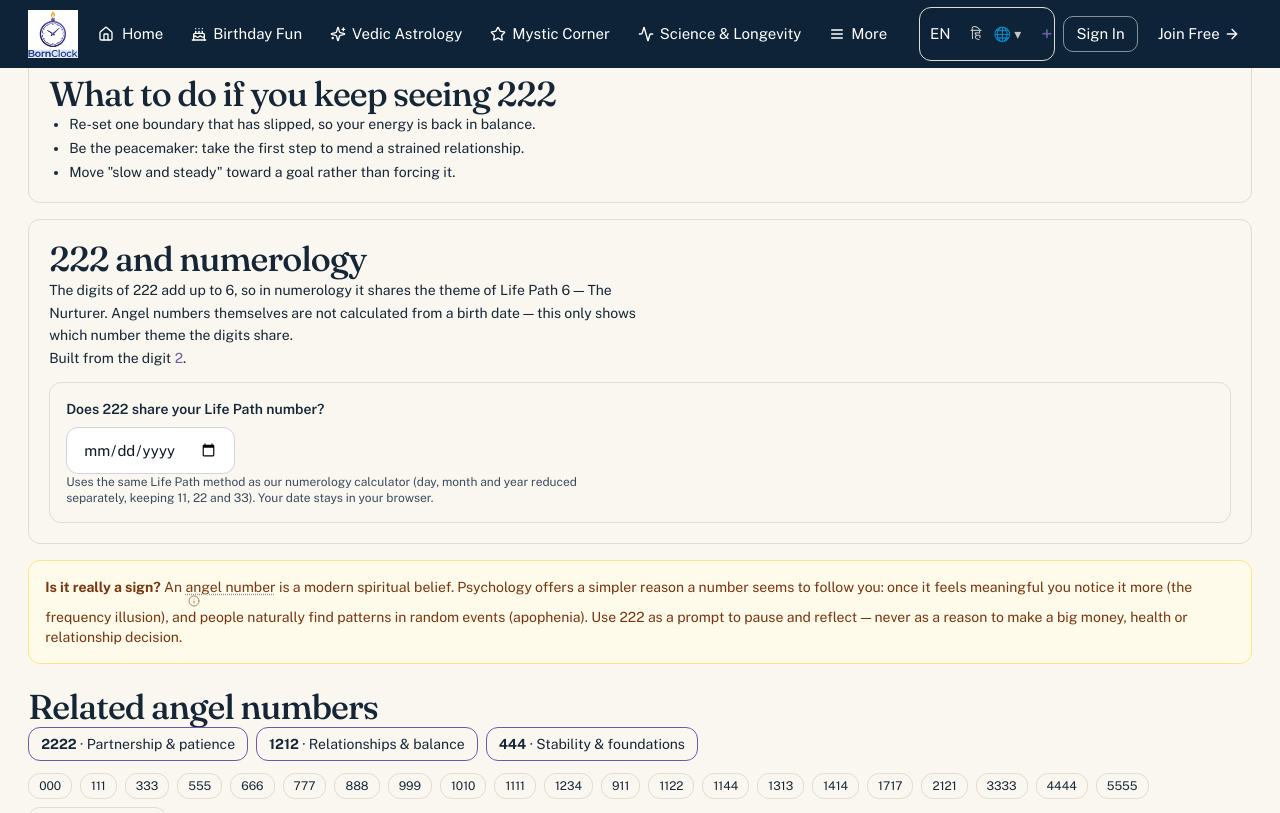
Test: angel number pages › Life Path checker uses the shared method (15 Aug 1990 → 6, matches 222)
The image size is (1280, 813).
(page scrolled)
Type "1990-08-15" into the date field with id "angel-dob" at (151,451), box x1=66 y1=427 x2=235 y2=474
(page scrolled)
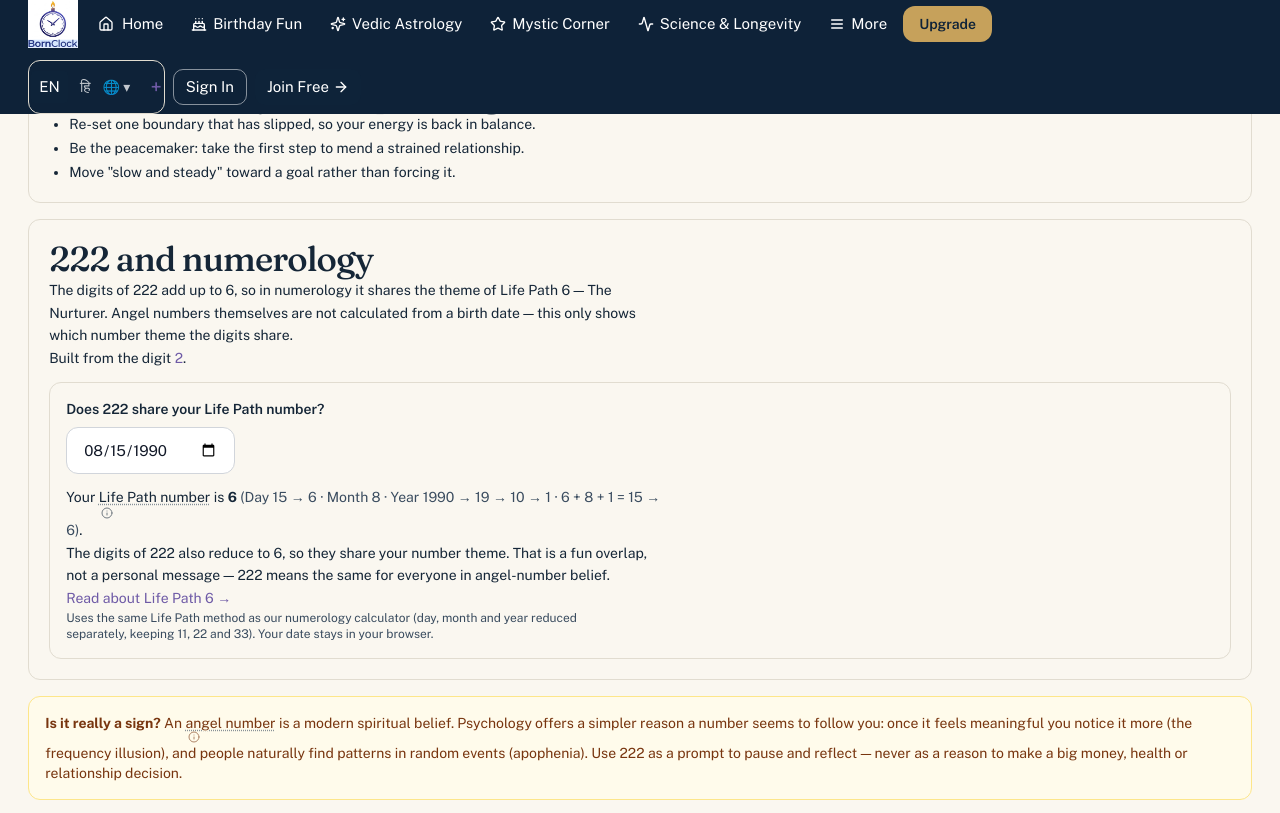
Expected: the element with test id "angel-lifepath-result" shows "also reduce to 6", x1=66 y1=486 x2=660 y2=606
